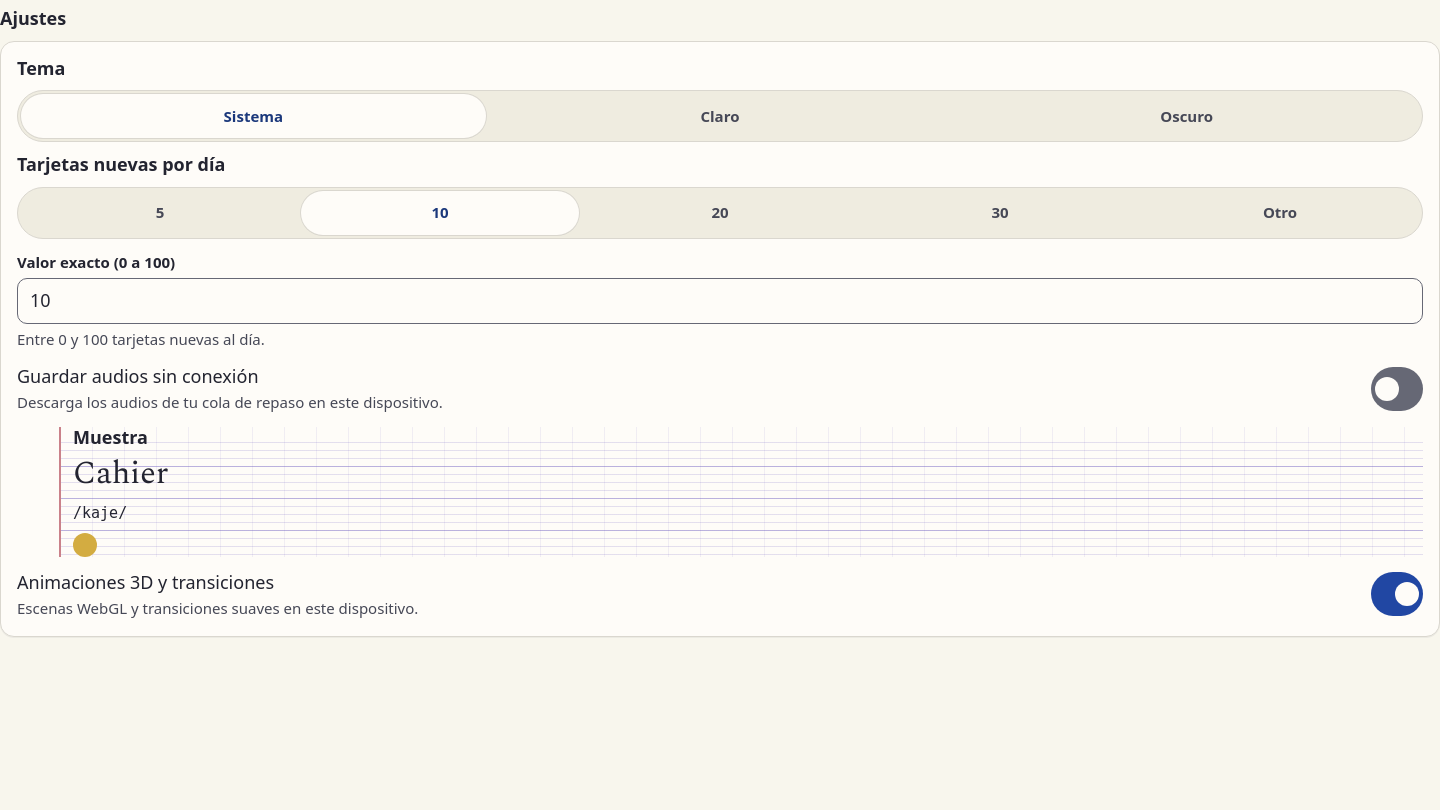
Test: sin conexión el tema queda en el dispositivo y lo avisa
The image size is (1440, 810).
Click the radio button labelled "Oscuro".
click(1187, 116)  # box [954,94,1419,138]
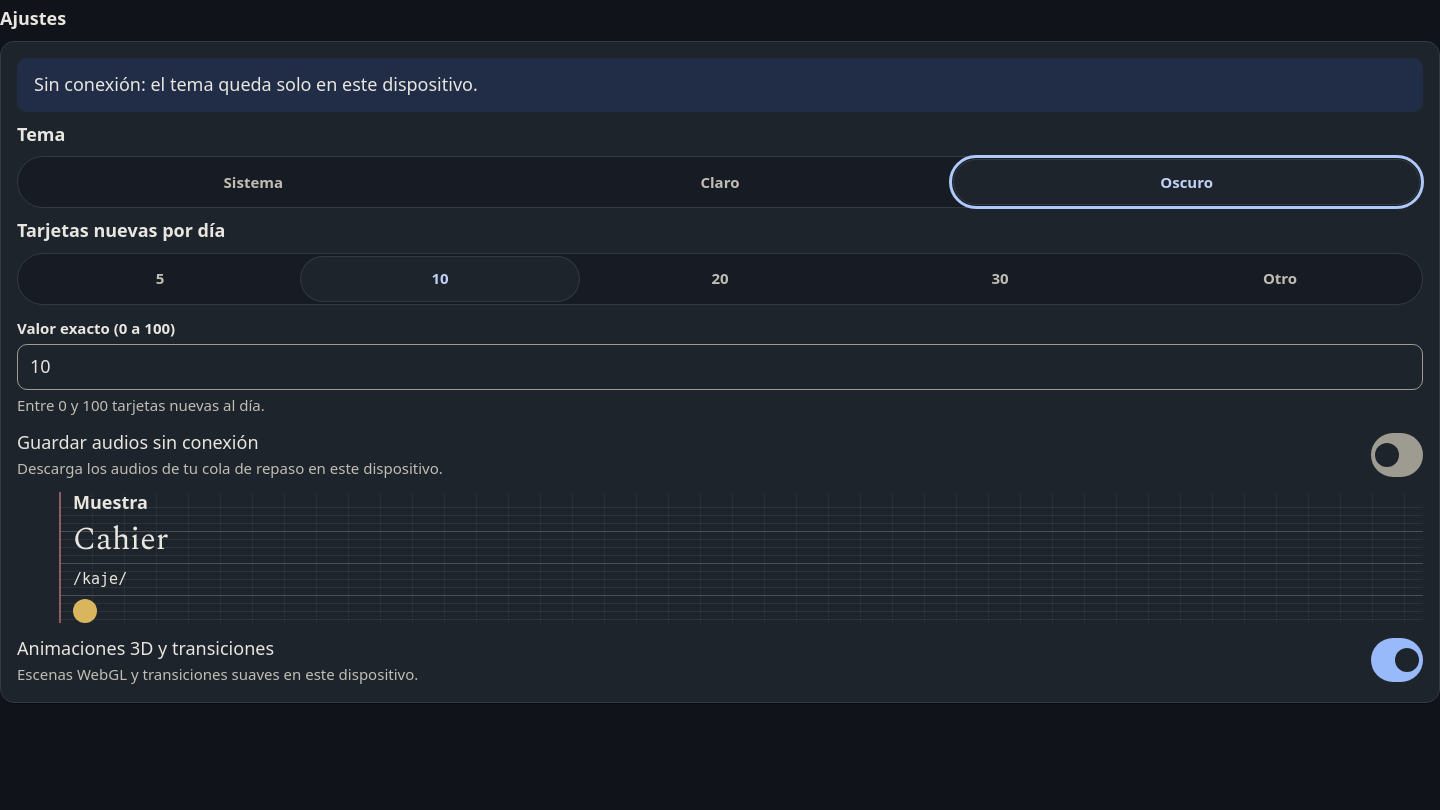
Expected: the text "Sin conexión: el tema queda solo en este dispositivo." is shown, [17,58,1423,112]
